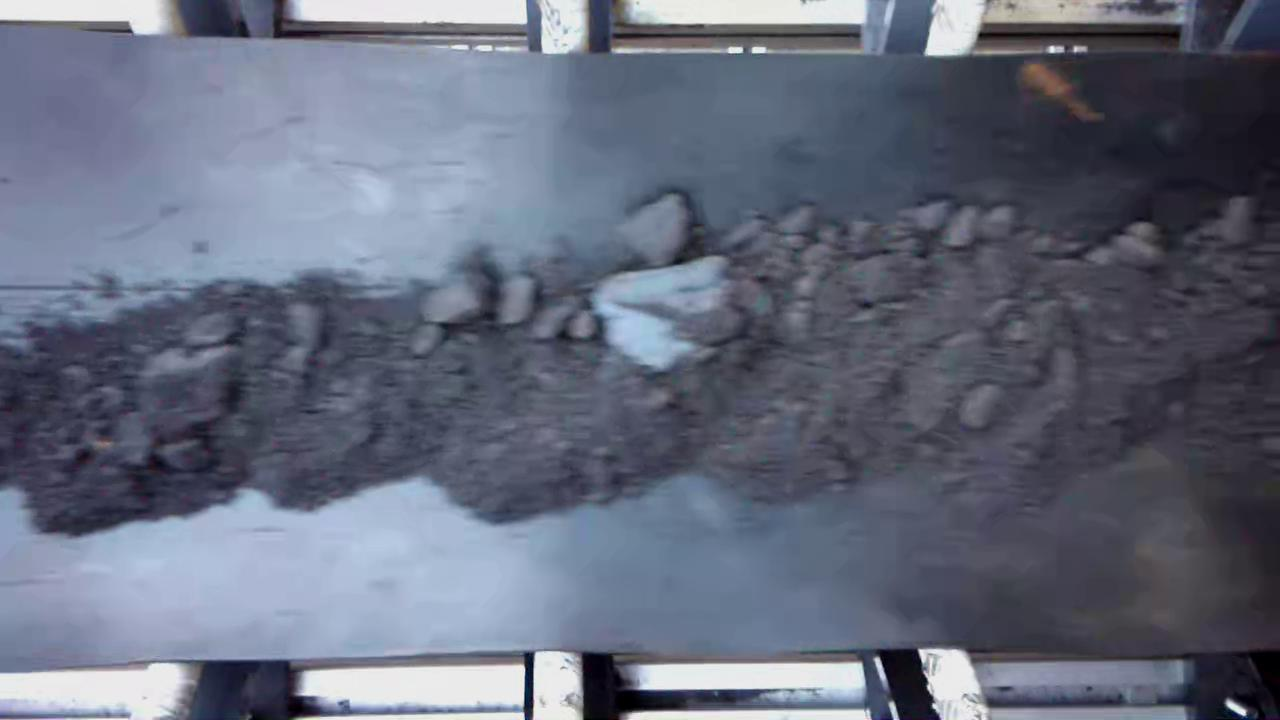conveyor: (3, 59, 1280, 640)
